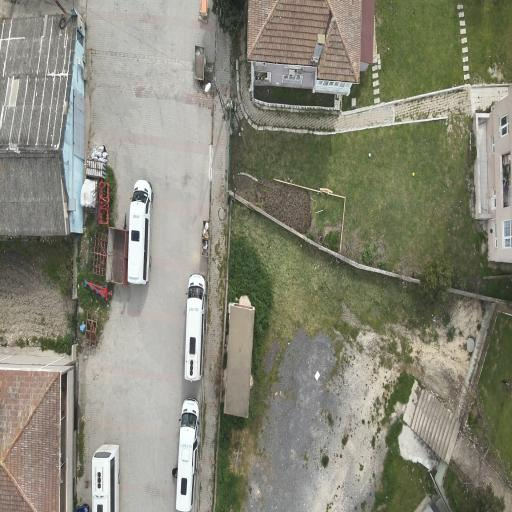bus: (127, 180, 153, 284), (176, 398, 199, 512), (184, 274, 206, 381), (91, 444, 120, 512)
person: (172, 467, 177, 478)
